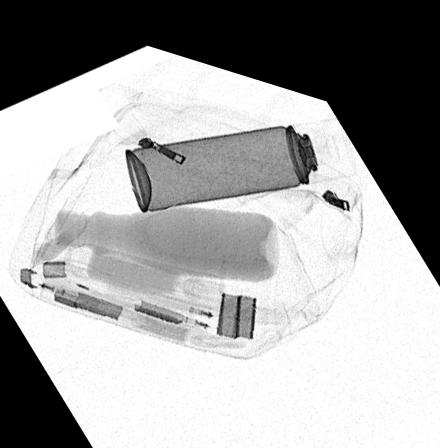Sprayer: (123, 97, 356, 204)
